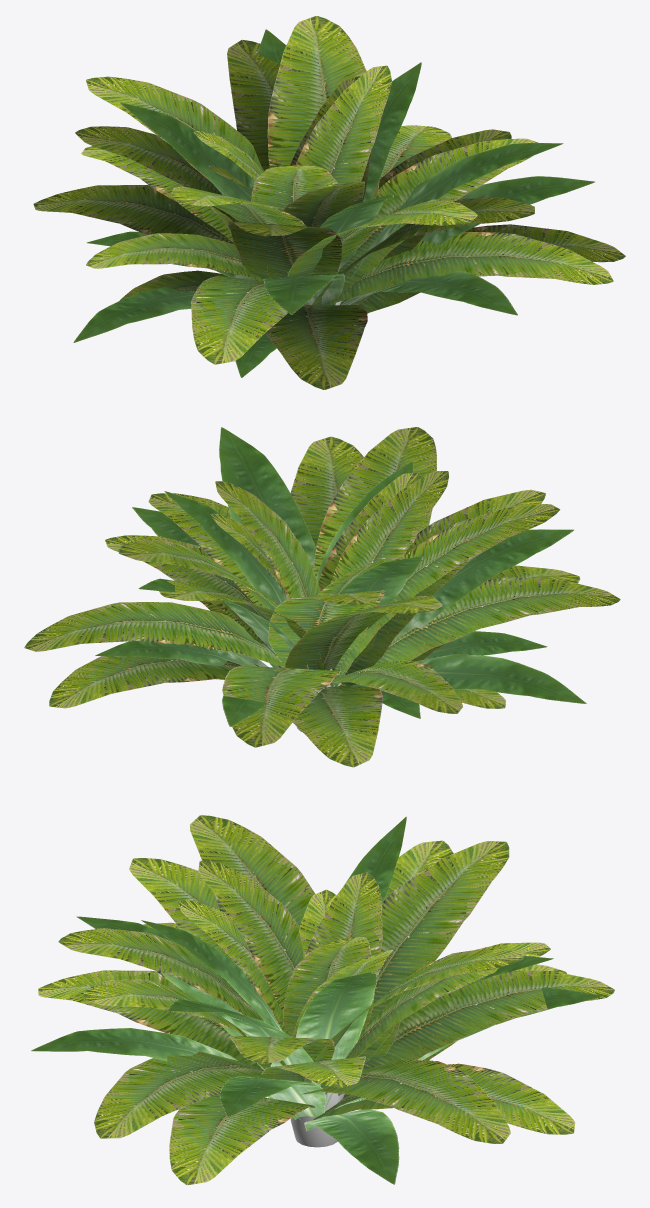
Rendered from Mini_Palm.fbx.
The picture shows the model from 3 angles, top to bottom: view 1: azimuth 30°, elevation 25°; view 2: azimuth 150°, elevation 25°; view 3: azimuth 270°, elevation 25°; orthographic projection. The views are drawn at different scales.
Parts seen in each view (by area): view 1: Plant-4(Leaf), Plant-2(Leaf), Plant-3(Leaf); view 2: Plant-4(Leaf), Plant-2(Leaf), Plant-3(Leaf); view 3: Plant-4(Leaf), Plant-2(Leaf), Plant-3(Leaf), Vase.
Boxes of the visible parts, x1,y1,x2,y2 form: Plant-4(Leaf): (81,16,613,364); Plant-2(Leaf): (33,39,625,389); Plant-3(Leaf): (73,29,594,377); Plant-4(Leaf): (24,427,620,747); Plant-2(Leaf): (49,436,580,767); Plant-3(Leaf): (95,427,586,726); Plant-4(Leaf): (58,815,614,1143); Plant-2(Leaf): (38,840,575,1185); Plant-3(Leaf): (31,816,603,1184); Vase: (290,1092,344,1147).
Bounding box in the file's own units: 211 × 95.47 × 213.
Materials: 1 (1 with a texture image).
